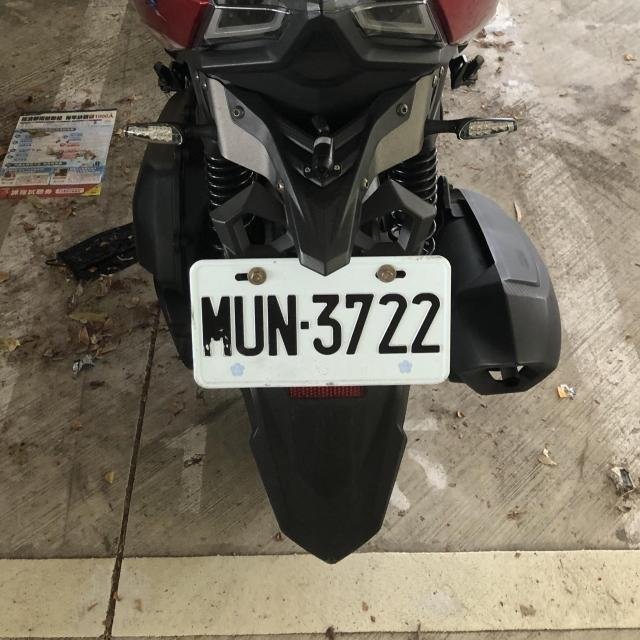W: (185, 250, 453, 392)
